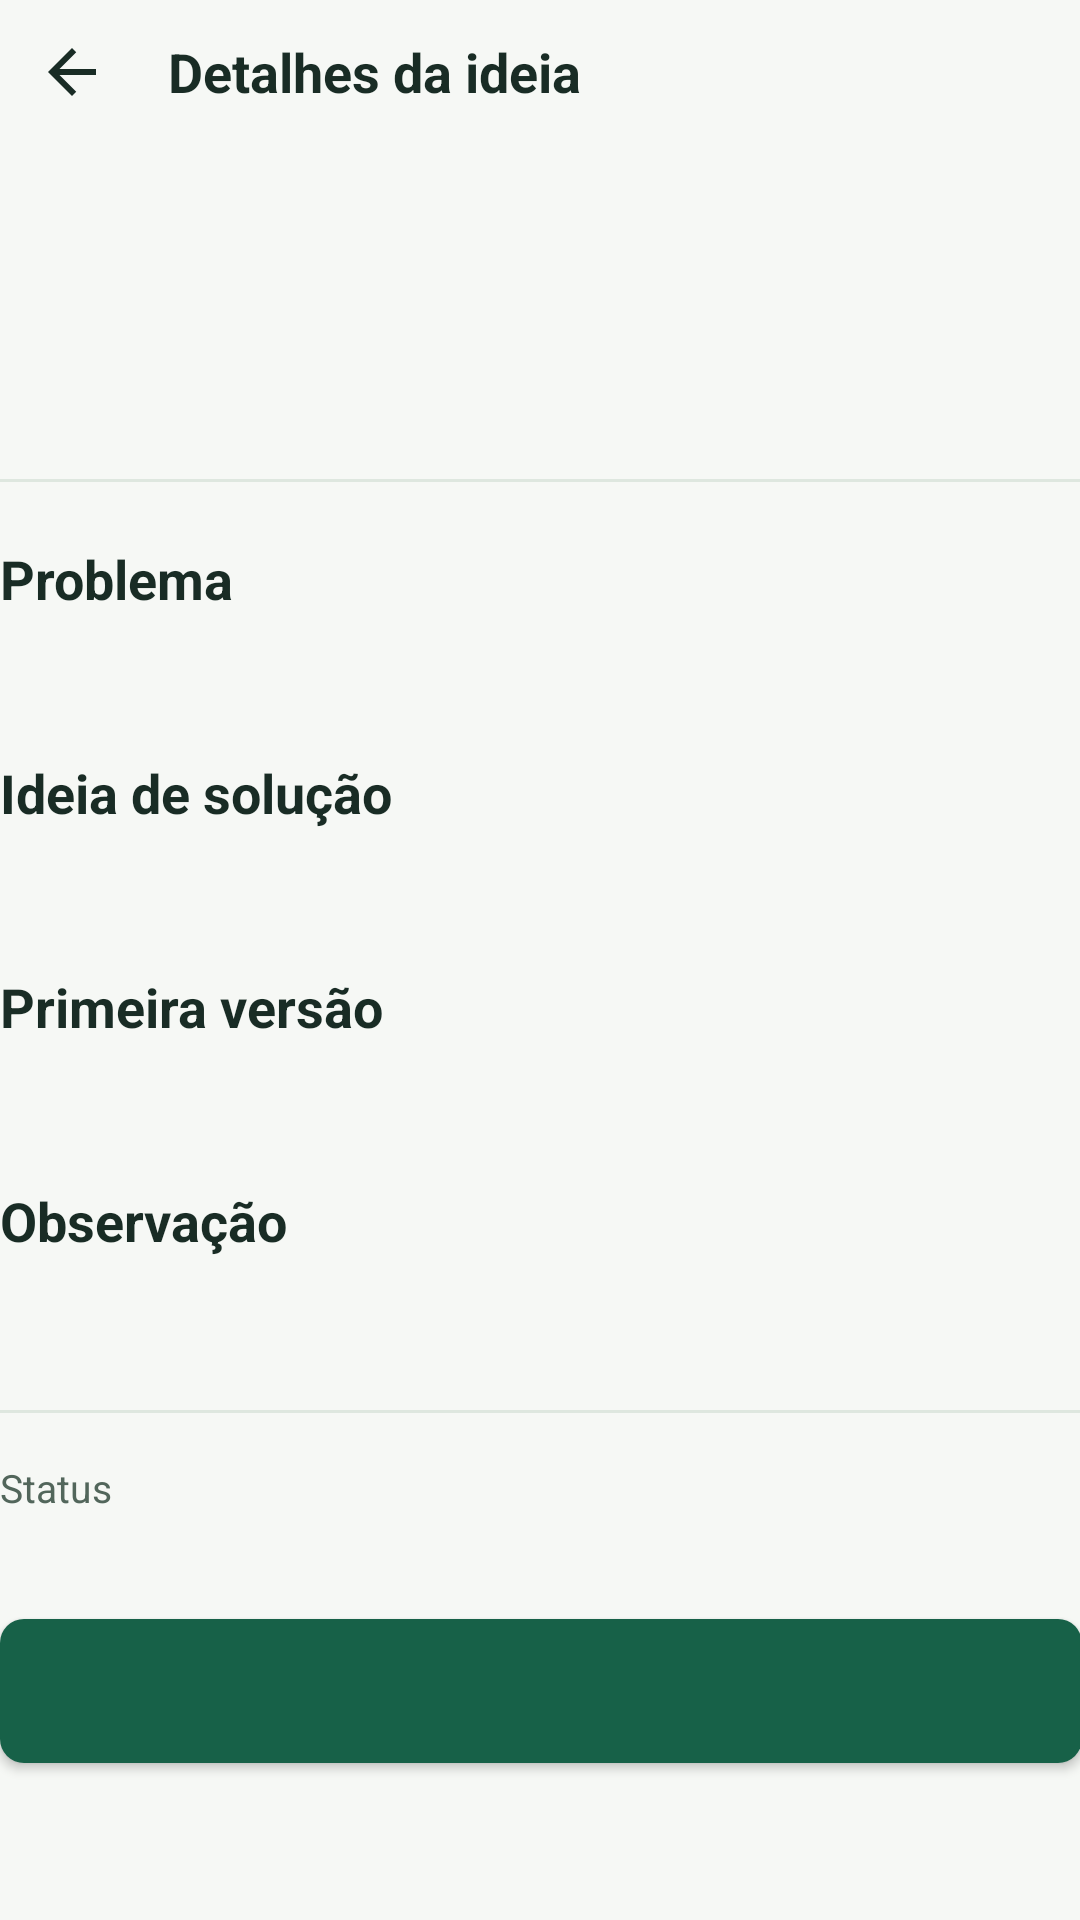

Icon click points for this 1080w x 1920h phone screenshot, format [x,y]:
Voltar à lista: [72,72]
